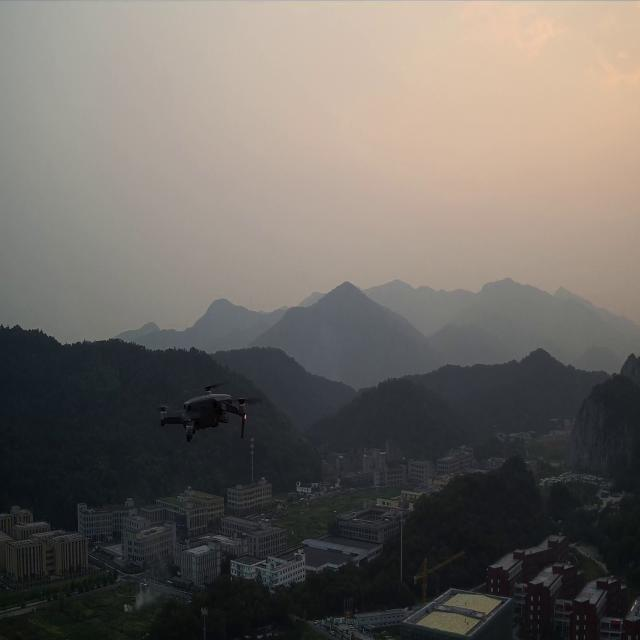UAV: (154, 382, 266, 442)
